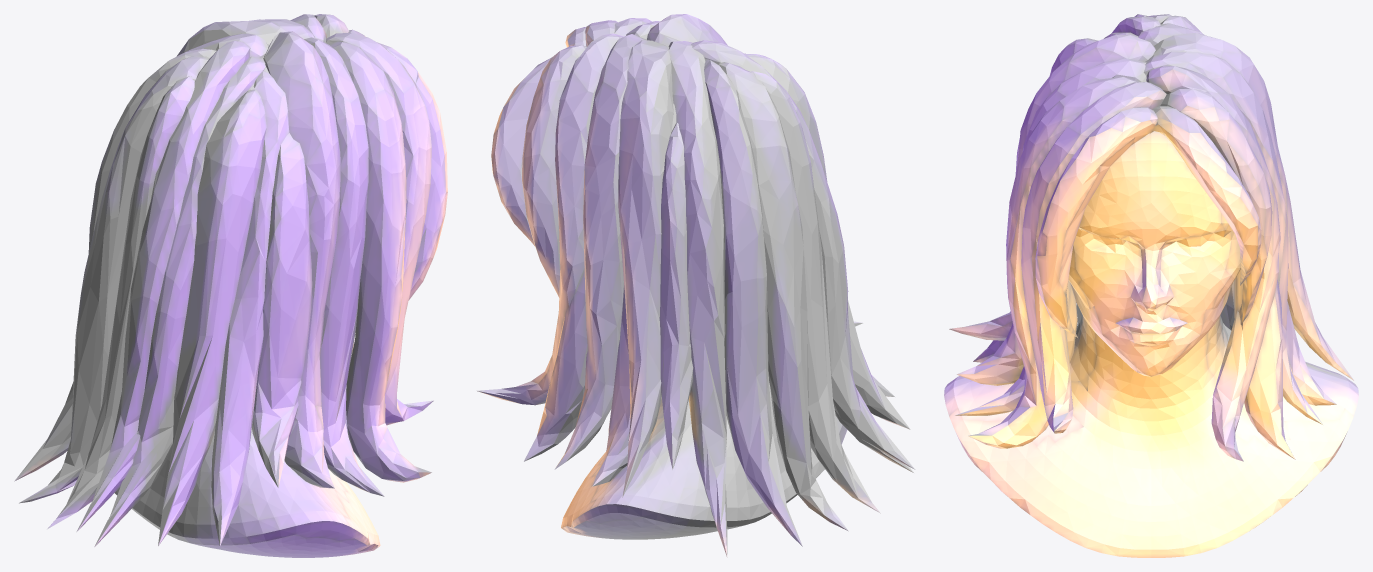
File: Filter_1.glb
The picture shows the model from 3 angles, left to right: view 1: azimuth 30°, elevation 25°; view 2: azimuth 150°, elevation 25°; view 3: azimuth 270°, elevation 25°; orthographic projection. The views are drawn at different scales.
Visible parts, largest first — view 1: buste_2; view 2: buste_2; view 3: buste_2.
Part boxes in pixels (left/top/right/bottom): buste_2: left=14, top=14, right=447, bottom=557; buste_2: left=476, top=14, right=915, bottom=557; buste_2: left=944, top=14, right=1358, bottom=557.
Size of the model in its own units: 71.68 by 94.14 by 71.61.
